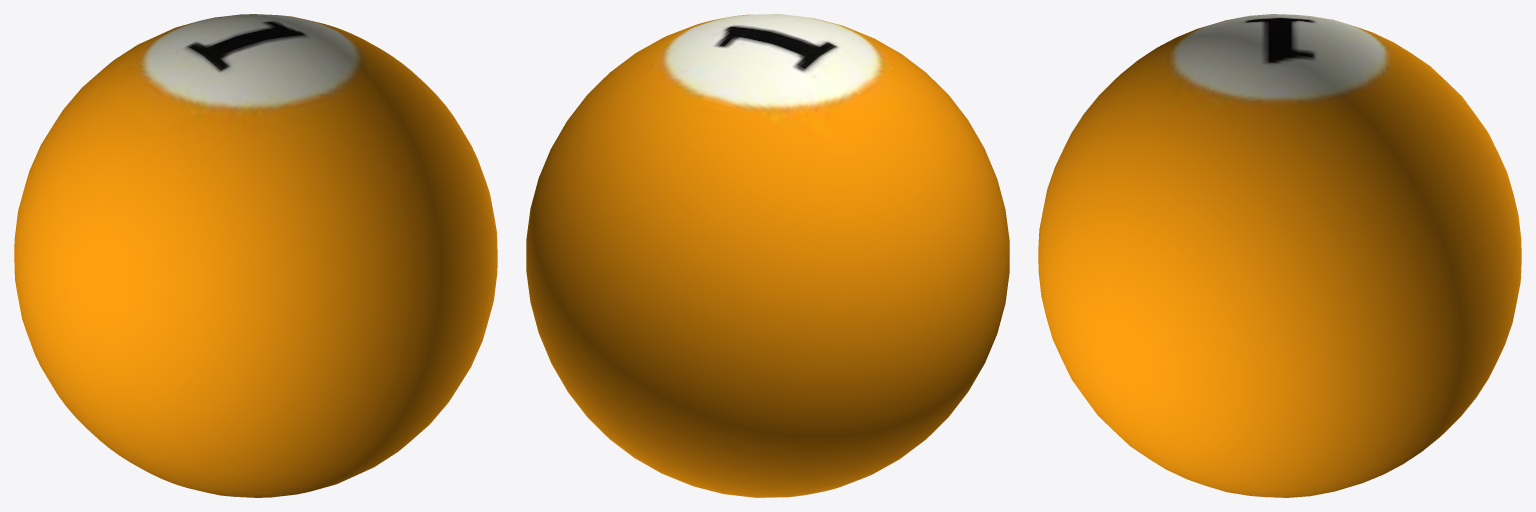
The model's file is billardBall1.glb.
3 renders of one model, left to right at view 1: azimuth 30°, elevation 25°; view 2: azimuth 150°, elevation 25°; view 3: azimuth 270°, elevation 25°, orthographic.
Visible parts, largest first — view 1: obj233; view 2: obj233; view 3: obj233.
Boxes of the visible parts, x1,y1,x2,y2 form: obj233: (14,14,497,497); obj233: (526,14,1009,497); obj233: (1038,14,1521,497).
Bounding box in the file's own units: 0.3905 × 0.3903 × 0.3903.
Materials: 1 (1 with a texture image).
